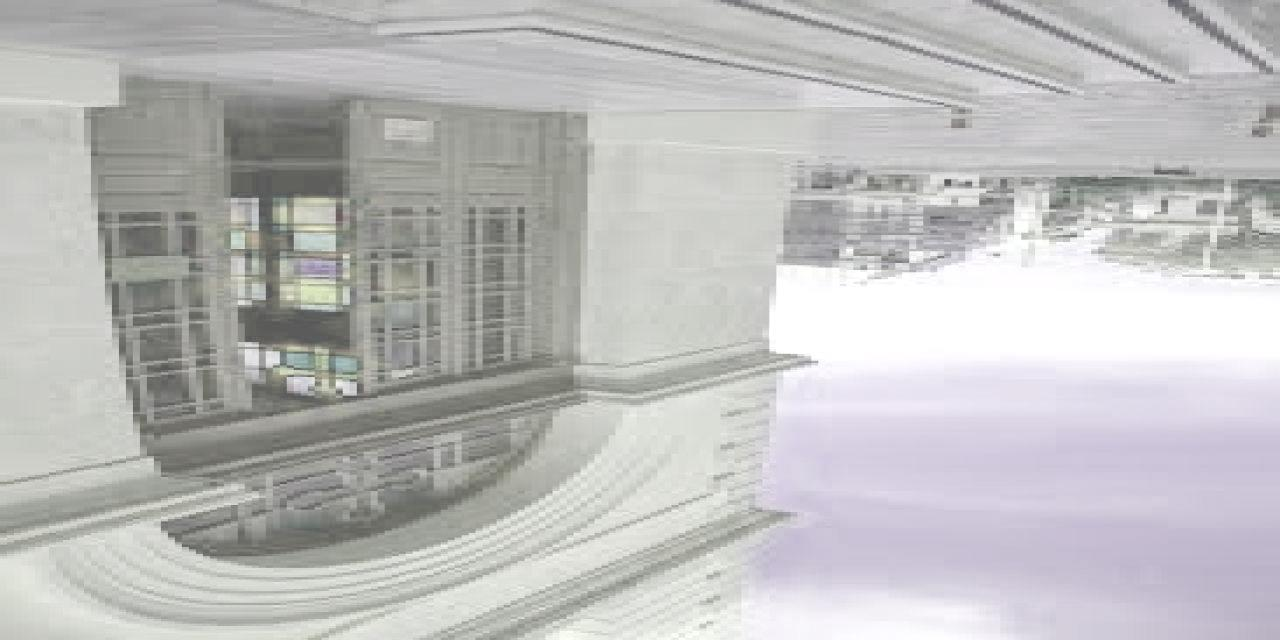Agios Minas: (1, 34, 849, 640)
